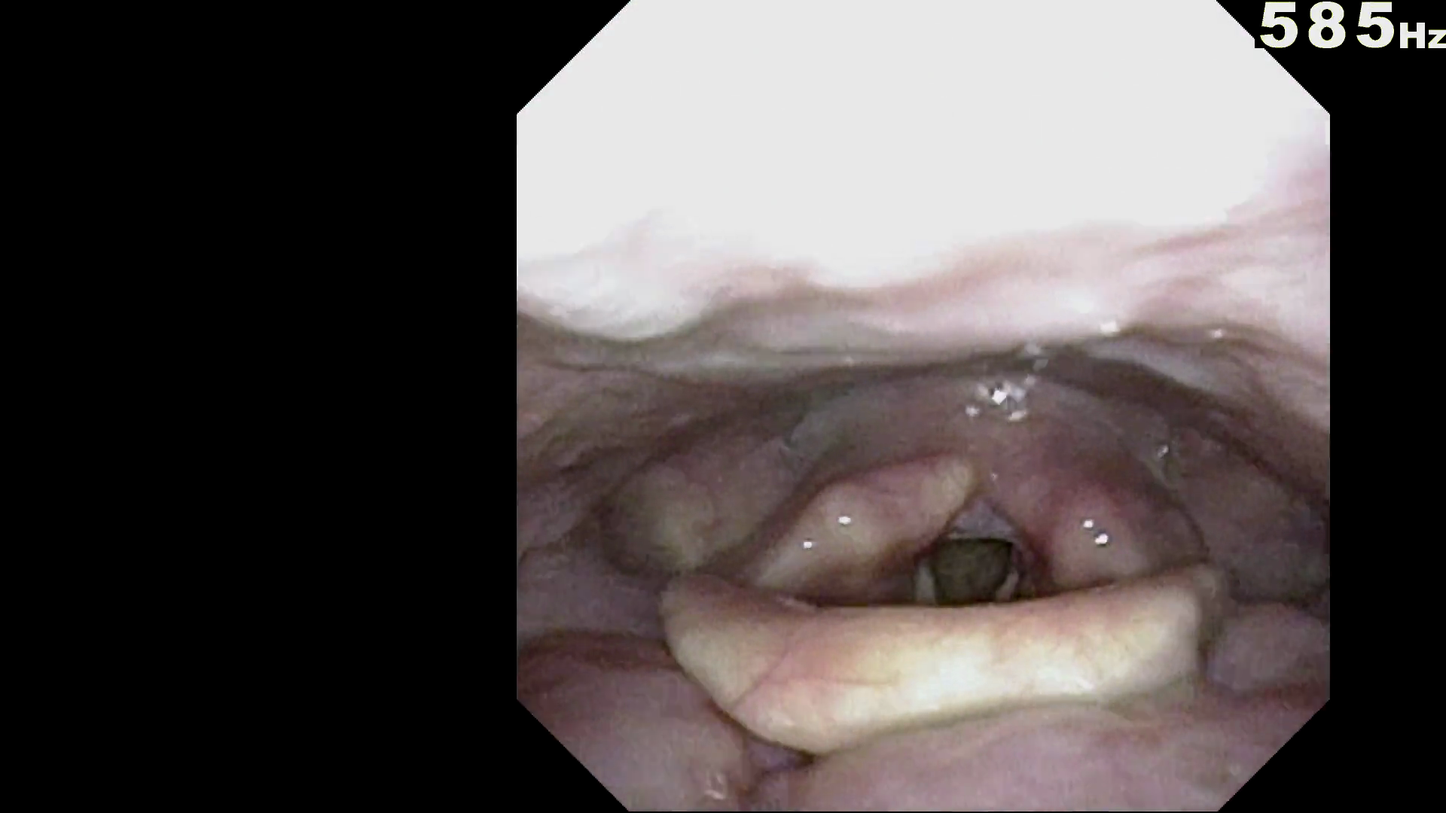epiglottis: (656, 597, 1197, 736)
trachea: (904, 533, 1033, 627)
